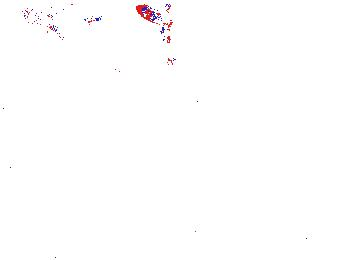red belly glassfish: (327, 160, 346, 181)
redtail glassfish: (17, 4, 101, 41), (107, 55, 181, 86), (135, 2, 179, 41)
